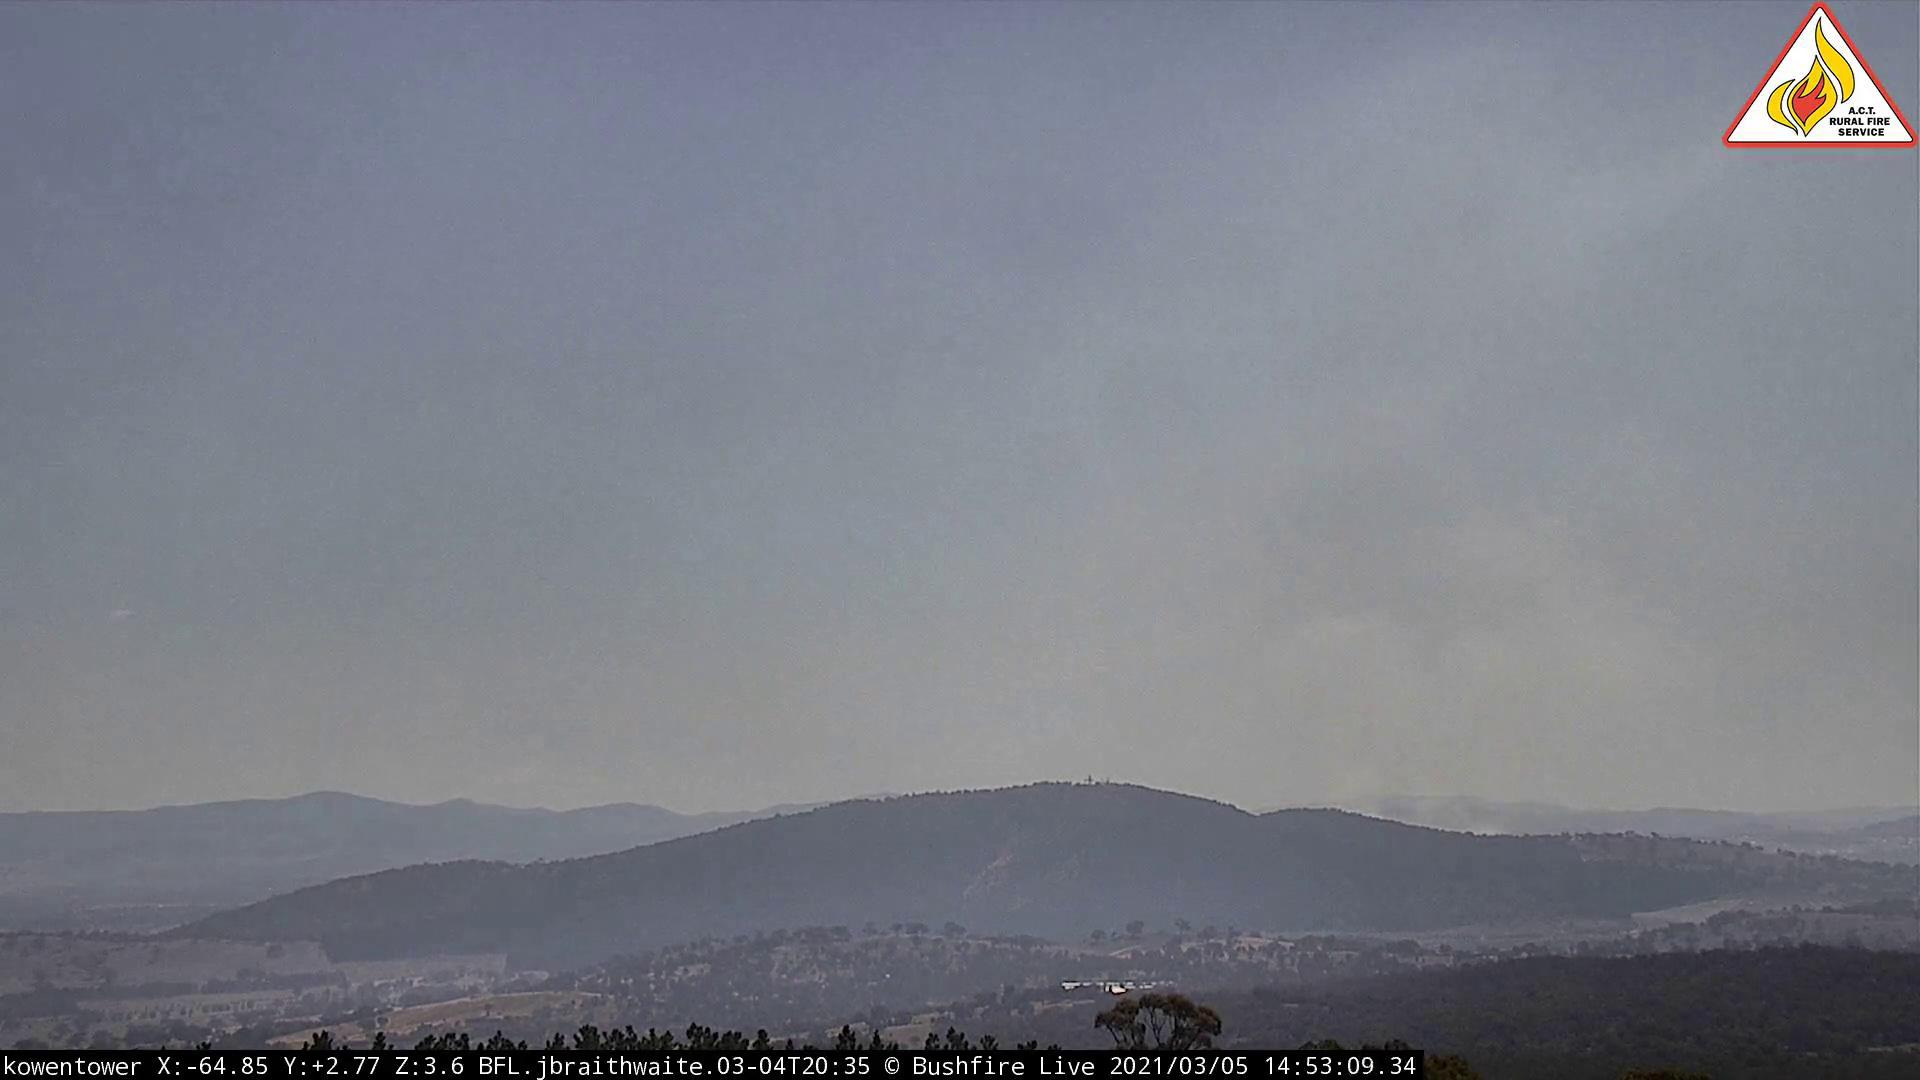Smoke: (1007, 363, 1820, 848)
